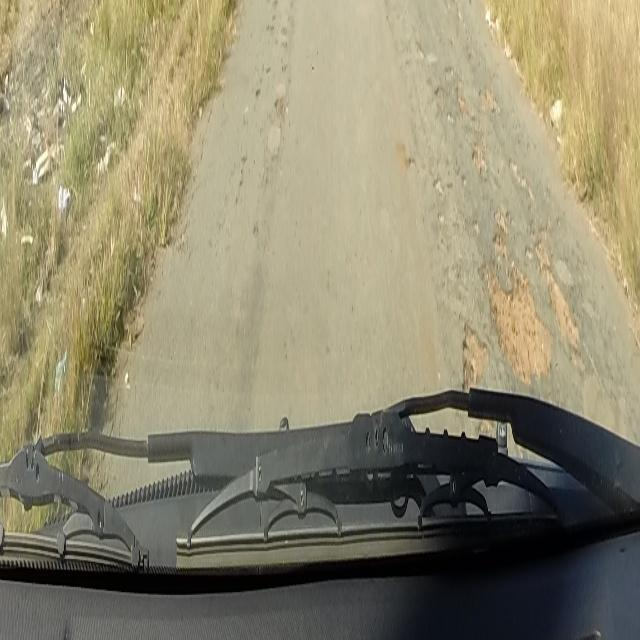pothole: (458, 230, 580, 389)
